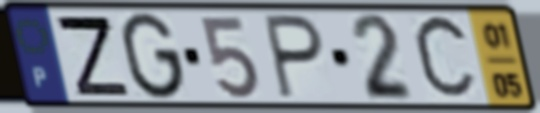2: (348, 10, 417, 105)
5: (196, 13, 262, 101)
C: (409, 10, 480, 106)
G: (118, 10, 188, 103)
P: (261, 11, 328, 103)
Z: (50, 13, 134, 99)
